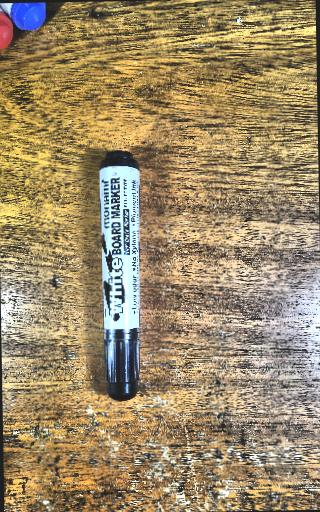marcador negro: (100, 150, 139, 401)
